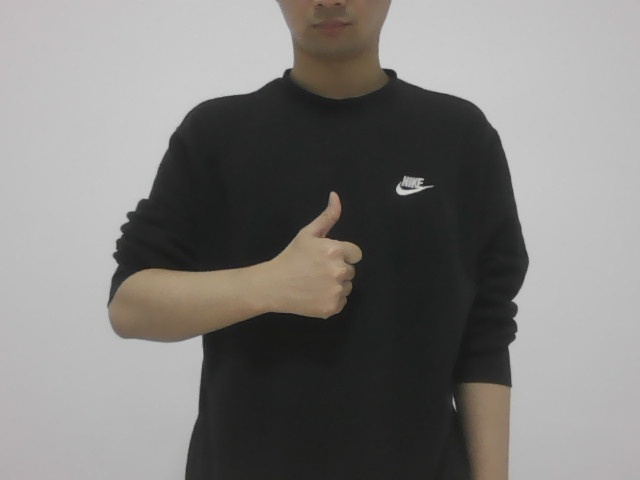good: (267, 182, 369, 332)
